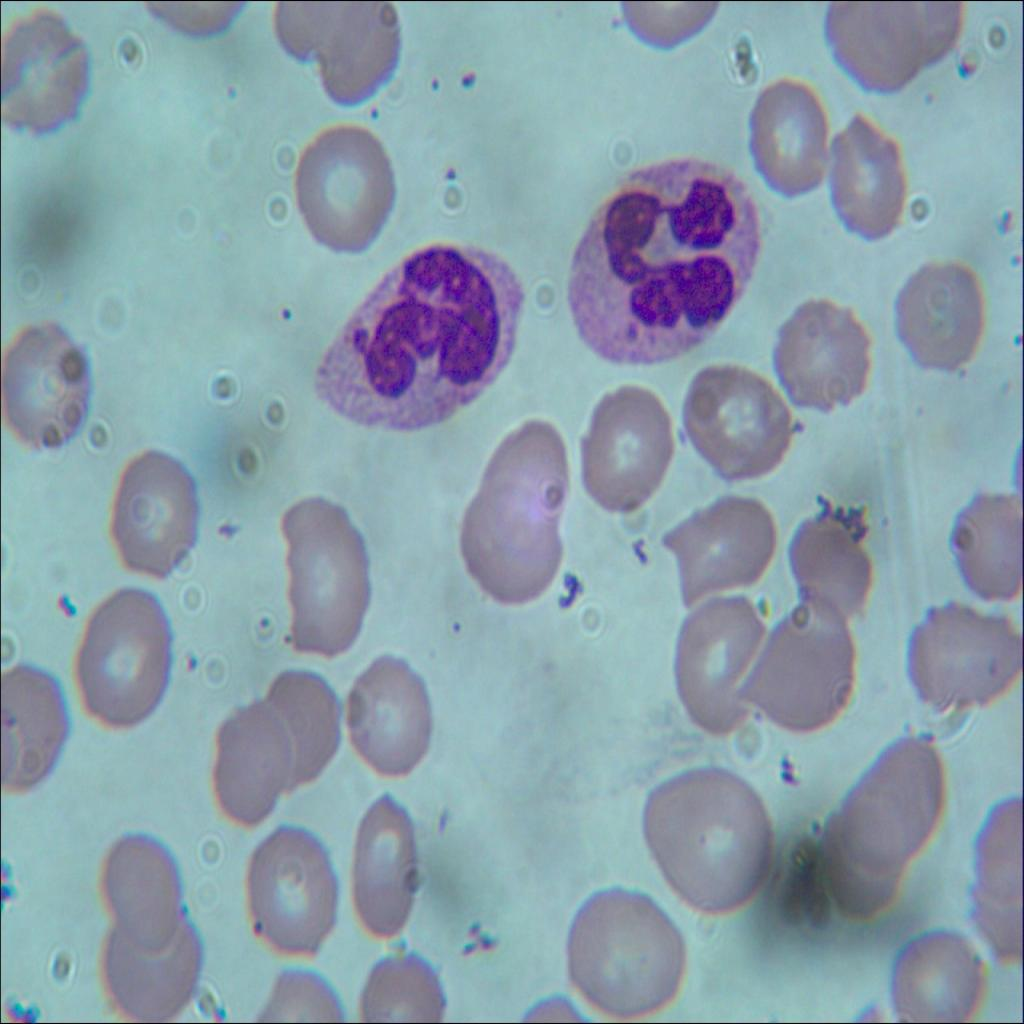Eritrosit: (644, 757, 773, 922), (663, 586, 774, 741), (273, 492, 373, 663), (559, 886, 686, 1012), (70, 586, 176, 732), (98, 445, 204, 589), (681, 349, 793, 484), (766, 285, 872, 424), (238, 821, 346, 957), (292, 125, 402, 257), (0, 5, 101, 144), (744, 608, 855, 734), (889, 252, 995, 381), (454, 482, 563, 604), (898, 602, 1020, 708), (813, 109, 910, 242), (669, 484, 778, 602), (346, 788, 430, 941), (576, 381, 674, 509), (98, 915, 210, 1023), (848, 734, 944, 859), (249, 666, 343, 790), (0, 327, 90, 452), (208, 698, 294, 828), (882, 917, 986, 1023), (746, 79, 835, 198), (818, 815, 913, 924), (353, 648, 435, 774), (99, 829, 183, 951), (476, 420, 566, 530), (0, 666, 73, 794), (788, 515, 869, 628), (949, 495, 1023, 595)
Neutrofil: (312, 239, 526, 442), (566, 151, 764, 370)
Platelet: (438, 155, 470, 195), (238, 906, 268, 948), (444, 607, 470, 654), (180, 639, 206, 678), (422, 64, 448, 101), (246, 605, 273, 639), (449, 72, 484, 98), (273, 292, 298, 326), (363, 95, 391, 125)
